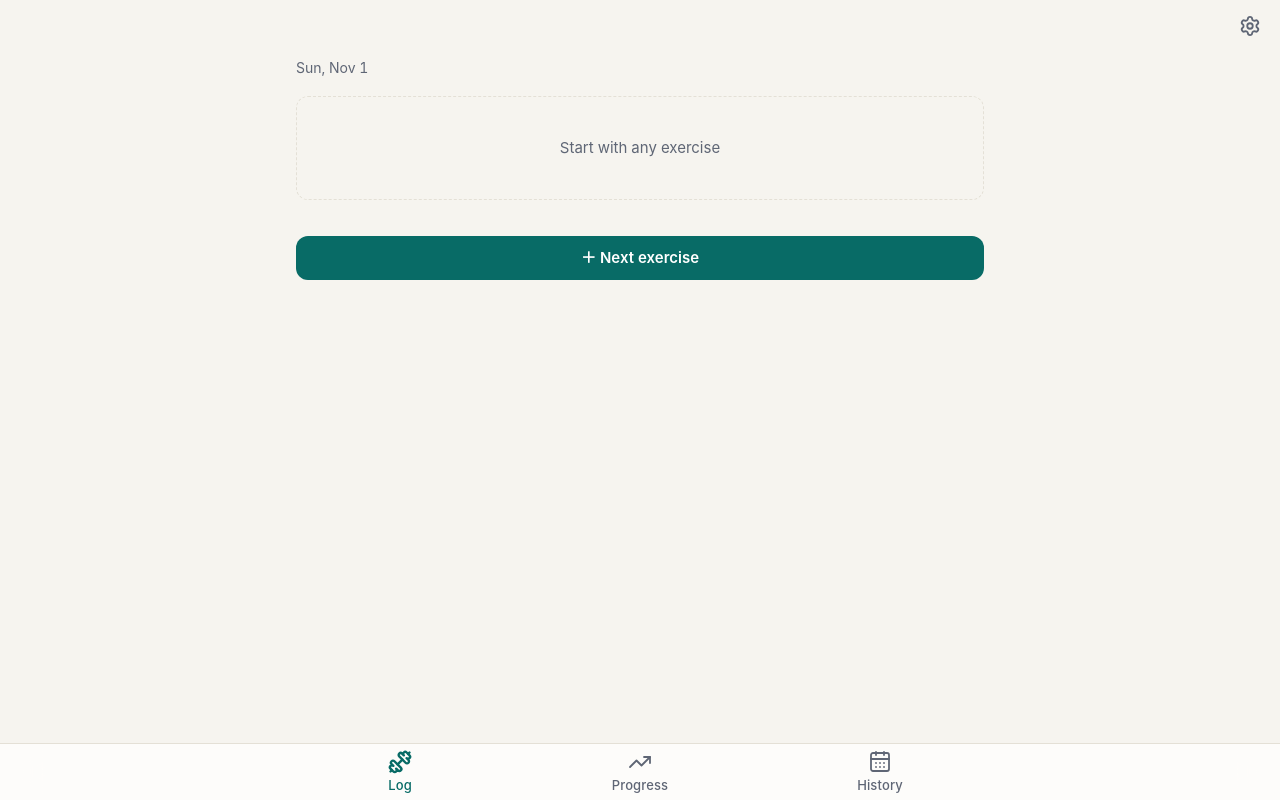
Test case: History tab › opens on the month of the latest workout (review minor 5)
This screenshot has width=1280, height=800.
What coordinates should you click on to do the following:
click the tab "History"
I would click on:
 (880, 772)
Its box is [760,744,1000,799].
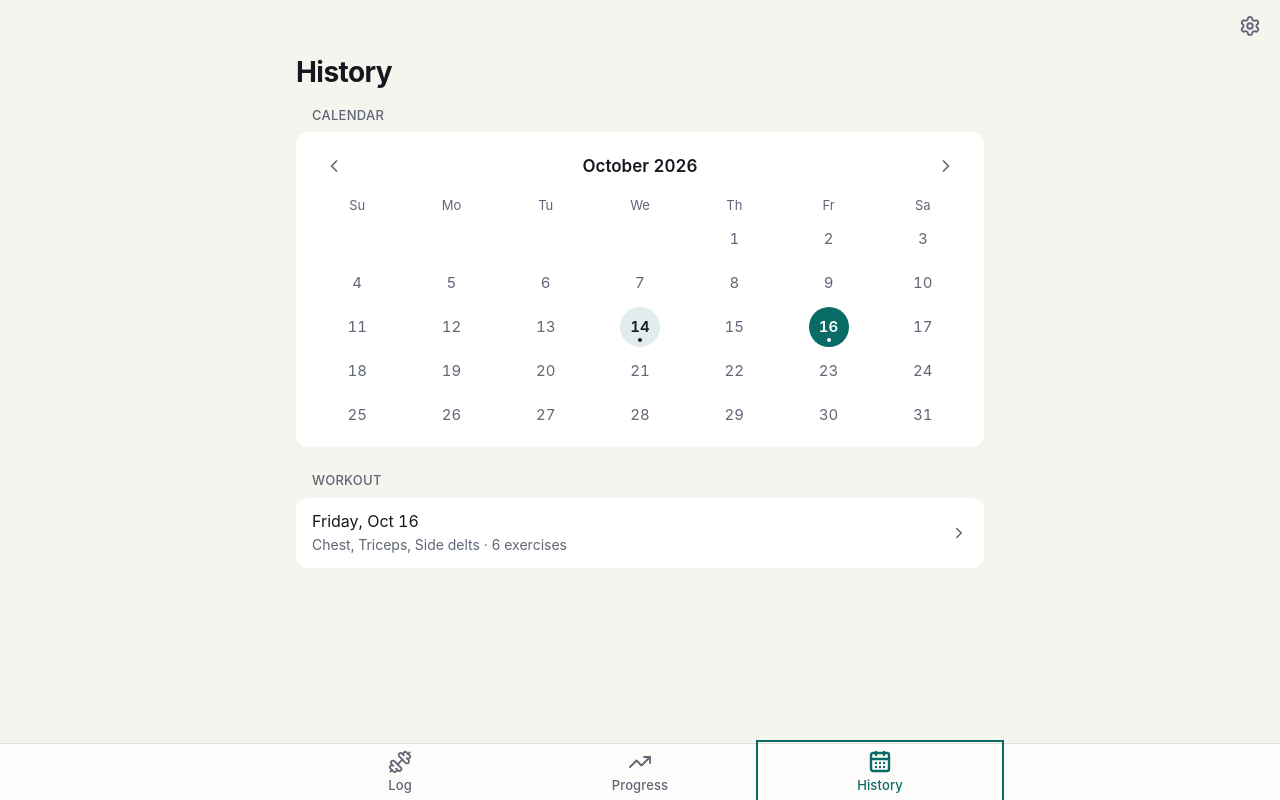
Result: the heading "October 2026" is shown at [582,154,698,179]
